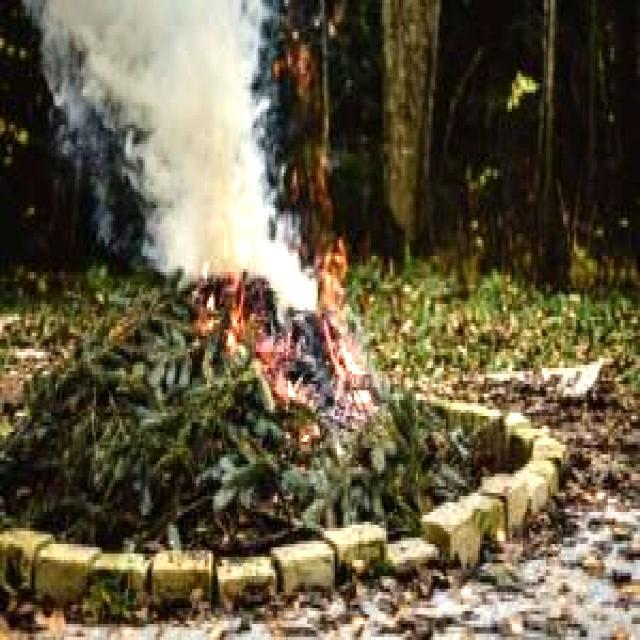Smoke: (66, 0, 312, 301)
